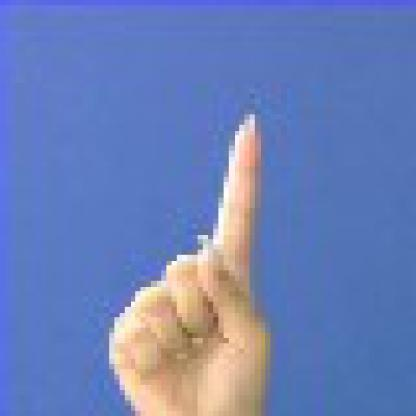one: (99, 104, 291, 411)
